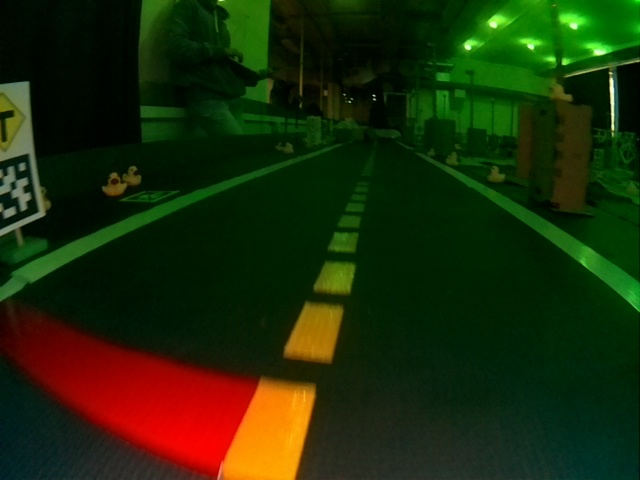Duckie: (103, 173, 125, 194), (551, 84, 571, 101), (126, 166, 142, 184), (489, 167, 503, 182), (446, 153, 459, 163), (284, 144, 292, 153)
Intersection sign: (0, 90, 30, 151)
QR code: (2, 156, 38, 232), (123, 188, 175, 203)
